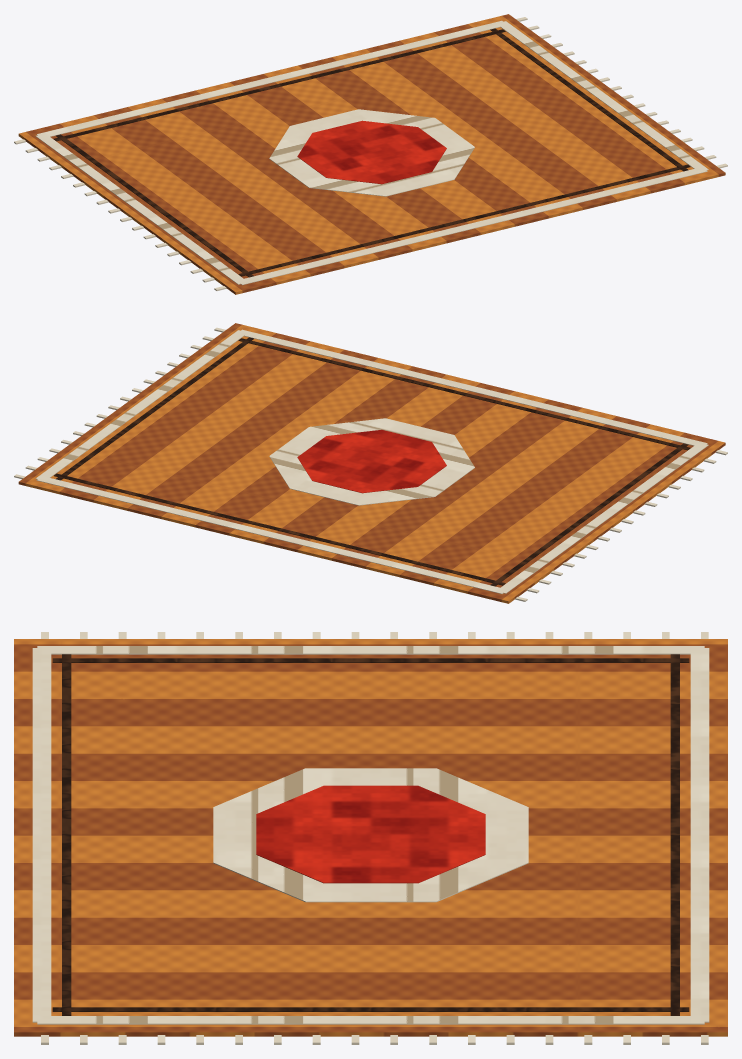
File: floor_rug.glb
3 views of the same model, one above another, from view 1: azimuth 30°, elevation 25°; view 2: azimuth 150°, elevation 25°; view 3: azimuth 270°, elevation 25° (orthographic). The views are drawn at different scales.
Visible parts, largest first — view 1: floor_rug__K_rug, floor_rug__K_cream, floor_rug__K_tomato, floor_rug__K_darkwood; view 2: floor_rug__K_rug, floor_rug__K_cream, floor_rug__K_tomato, floor_rug__K_darkwood; view 3: floor_rug__K_rug, floor_rug__K_cream, floor_rug__K_tomato, floor_rug__K_darkwood.
Boxes of the visible parts, x1=… form: floor_rug__K_rug: x1=18, y1=14, x2=725, y2=294; floor_rug__K_cream: x1=14, y1=17, x2=727, y2=290; floor_rug__K_tomato: x1=297, y1=120, x2=446, y2=184; floor_rug__K_darkwood: x1=54, y1=28, x2=690, y2=277; floor_rug__K_rug: x1=18, y1=323, x2=725, y2=603; floor_rug__K_cream: x1=14, y1=327, x2=727, y2=601; floor_rug__K_tomato: x1=297, y1=429, x2=446, y2=493; floor_rug__K_darkwood: x1=54, y1=337, x2=690, y2=586; floor_rug__K_rug: x1=14, y1=639, x2=727, y2=1036; floor_rug__K_cream: x1=32, y1=632, x2=709, y2=1044; floor_rug__K_tomato: x1=256, y1=785, x2=485, y2=883; floor_rug__K_darkwood: x1=52, y1=654, x2=689, y2=1015.
Size of what is drawn, in the model's own units: 6.26 by 0.04 by 4.6.
Materials: 4 (4 with a texture image).
